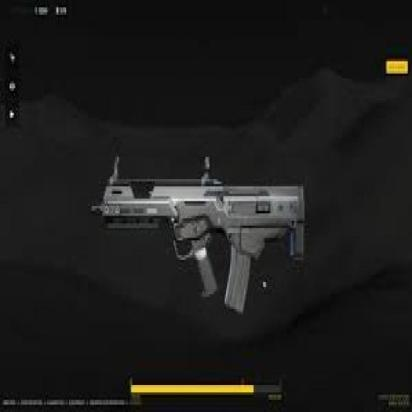Gun: (90, 155, 316, 322)
